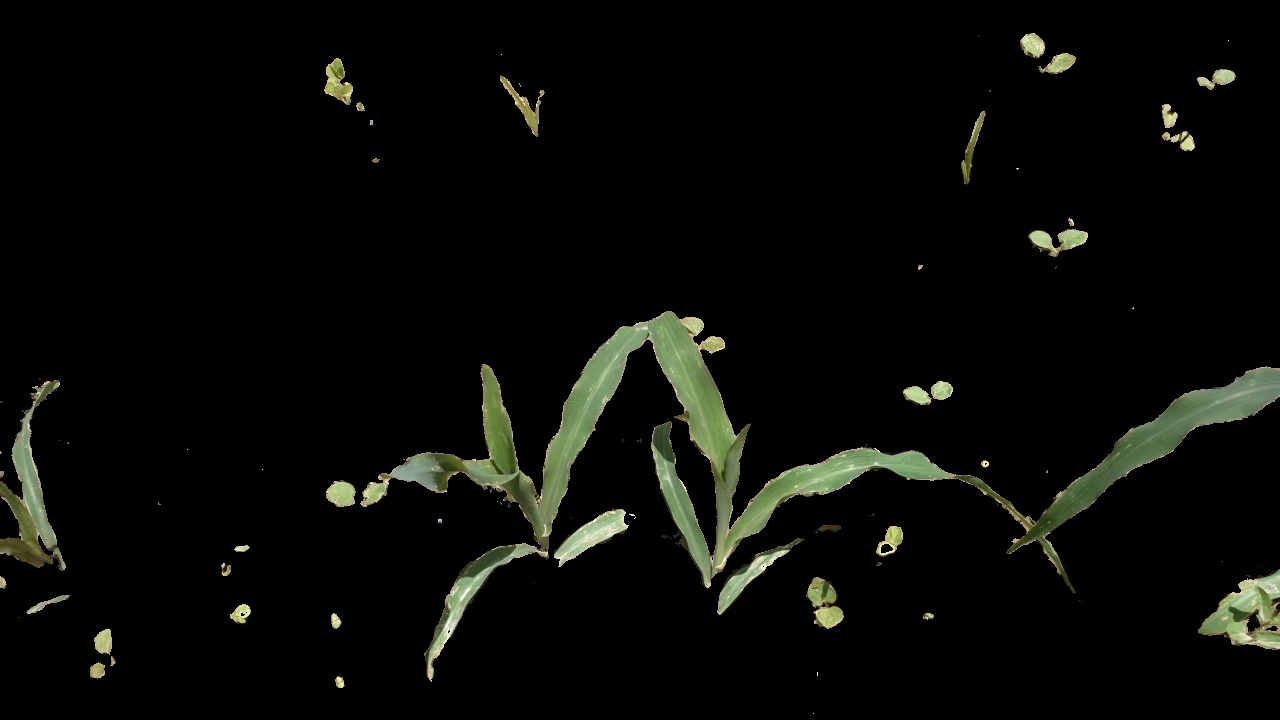crop: (637, 297, 1067, 672), (395, 295, 634, 681), (1, 359, 89, 587)
weed: (492, 62, 556, 139), (320, 59, 379, 137), (1227, 590, 1280, 652), (1018, 21, 1076, 77), (79, 624, 124, 694), (957, 110, 995, 191), (1031, 223, 1098, 268), (317, 472, 393, 510), (904, 369, 960, 416), (680, 316, 727, 359), (805, 575, 840, 629), (1159, 100, 1195, 152), (1183, 61, 1240, 90), (218, 601, 263, 627), (876, 520, 902, 562)
